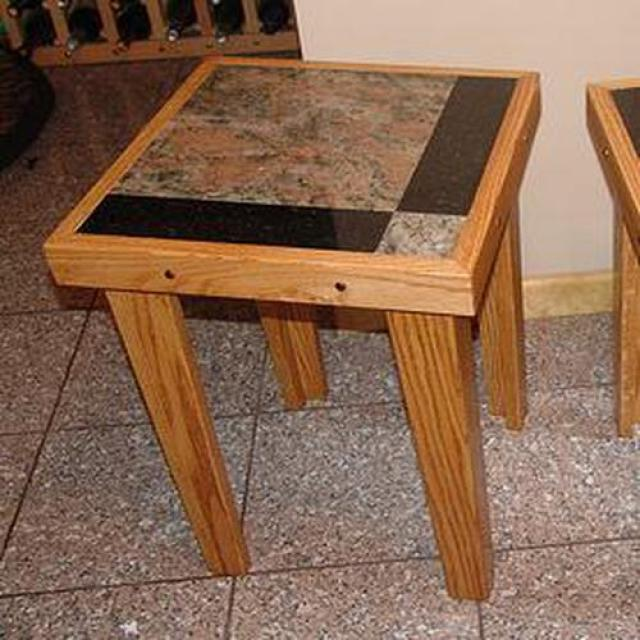table: (42, 58, 540, 602)
